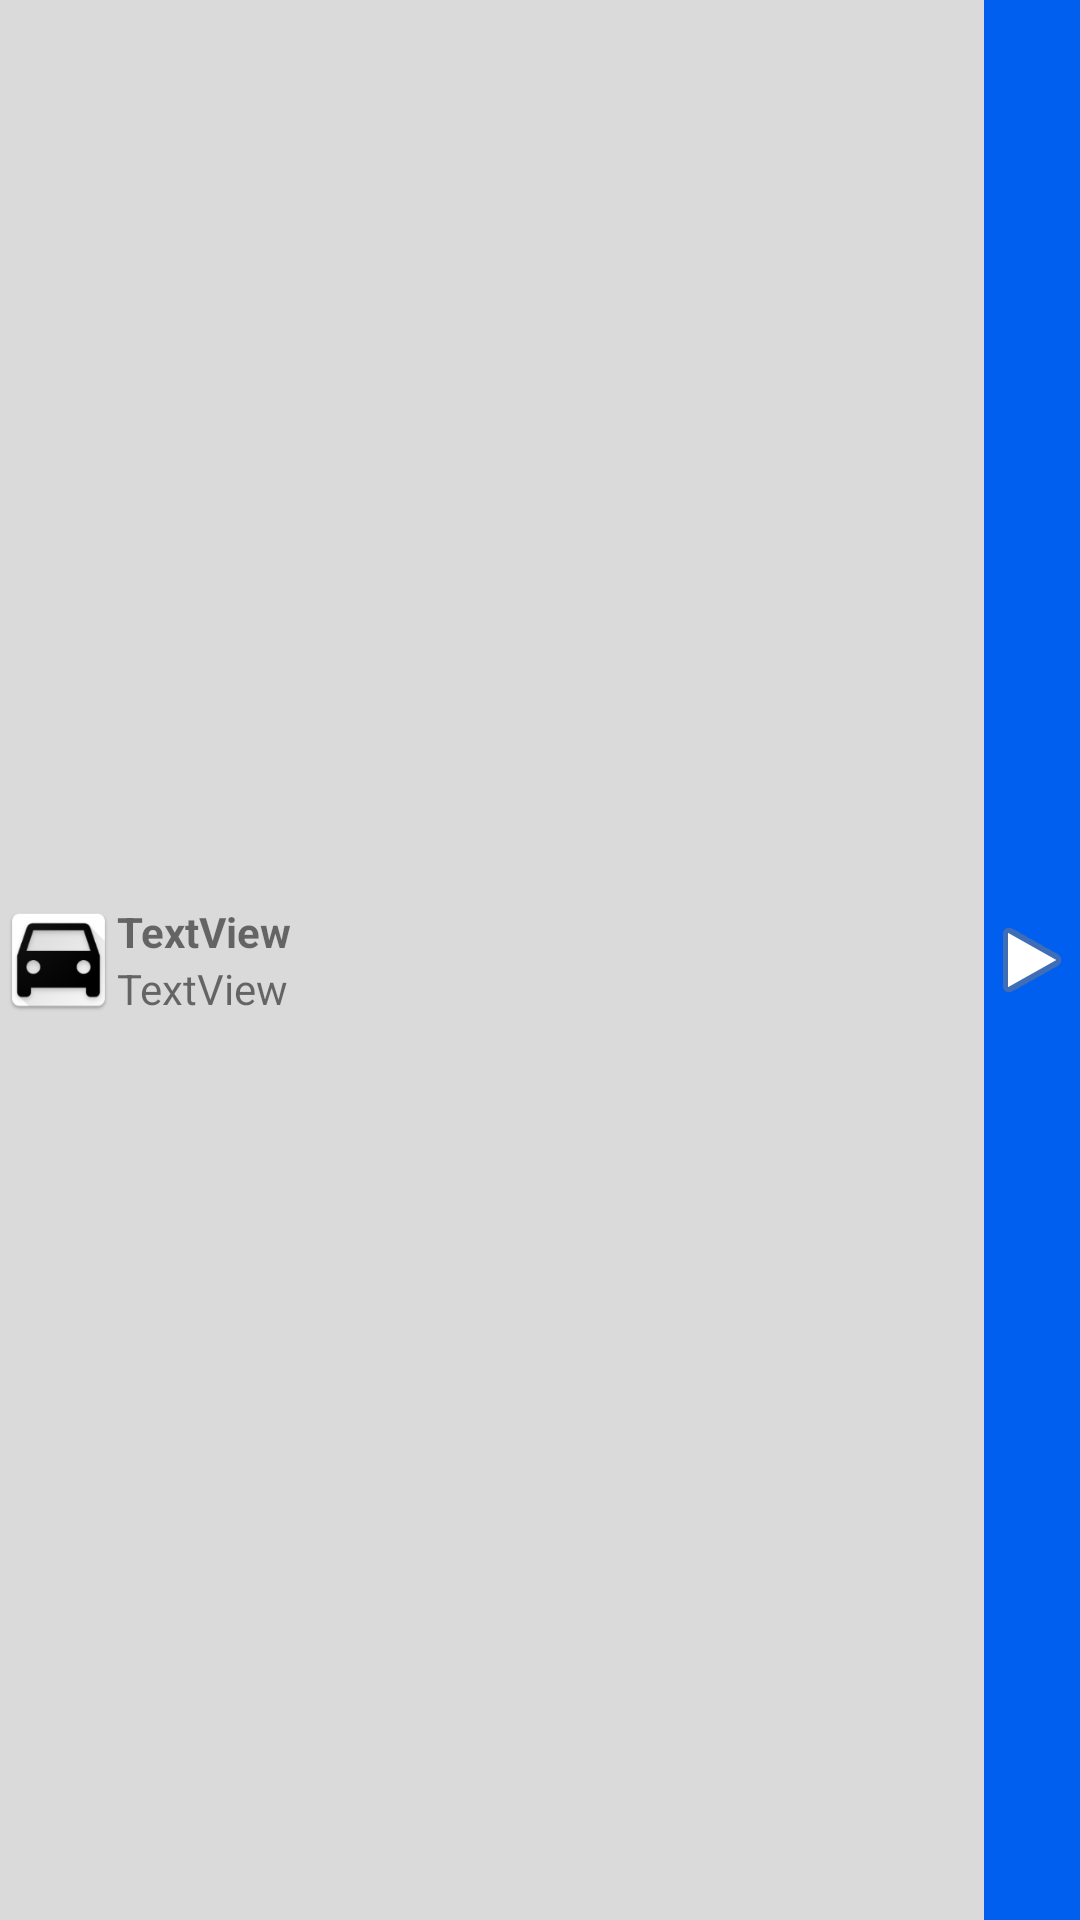

Icons on this 1080 x 1920 Android screen, each with the point to tap as (x=x, y=y):
car: (x=58, y=961)
